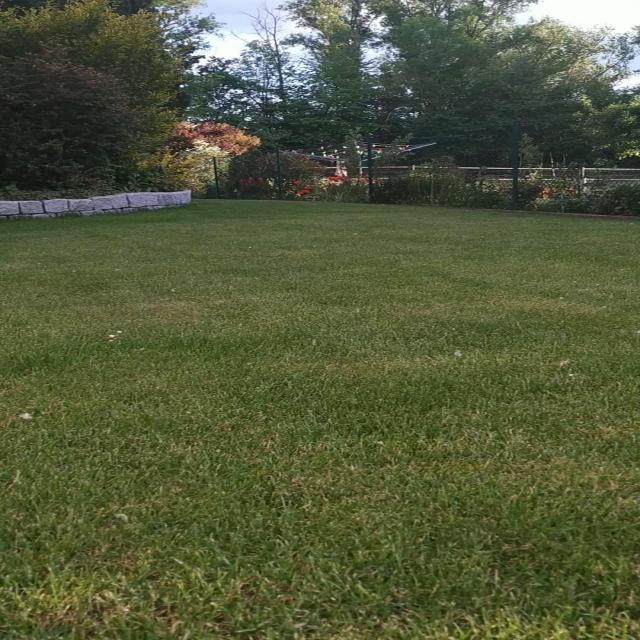lawn: (0, 200, 640, 640)
